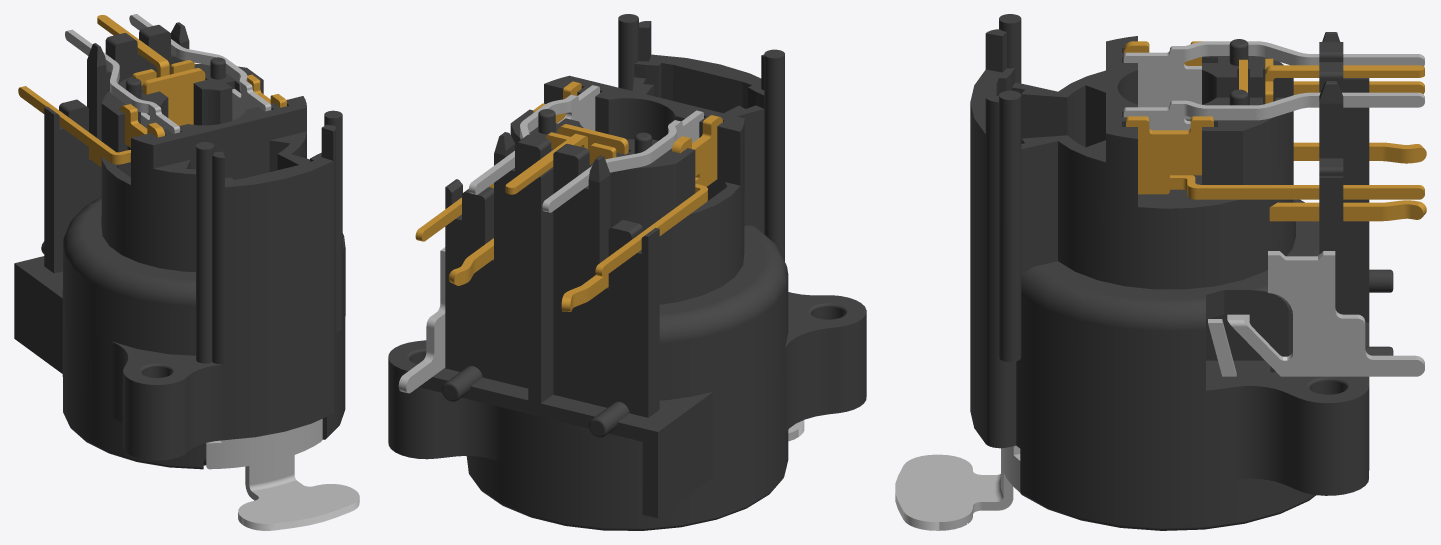
File: Neutrik_NCJ6FA_H.3dmodel.glb
3 views of the same model, side by side, from view 1: azimuth 30°, elevation 25°; view 2: azimuth 150°, elevation 25°; view 3: azimuth 270°, elevation 25° (orthographic). The views are drawn at different scales.
Visible parts, largest first — view 1: =>[0:1:1:2], =>[0:1:1:3], =>[0:1:1:4]; view 2: =>[0:1:1:2], =>[0:1:1:4]; view 3: =>[0:1:1:2], =>[0:1:1:3], =>[0:1:1:4].
Boxes of the visible parts, box(x1,y1,x2,y2) form: =>[0:1:1:2]: box(14, 15, 345, 469); =>[0:1:1:3]: box(206, 419, 359, 530); =>[0:1:1:4]: box(129, 14, 271, 120); =>[0:1:1:2]: box(388, 14, 866, 530); =>[0:1:1:4]: box(468, 85, 599, 194); =>[0:1:1:2]: box(970, 14, 1426, 530); =>[0:1:1:3]: box(895, 445, 1020, 530); =>[0:1:1:4]: box(1123, 92, 1424, 130).
Size of the model in its own units: 24.96 by 30.4 by 33.28.
